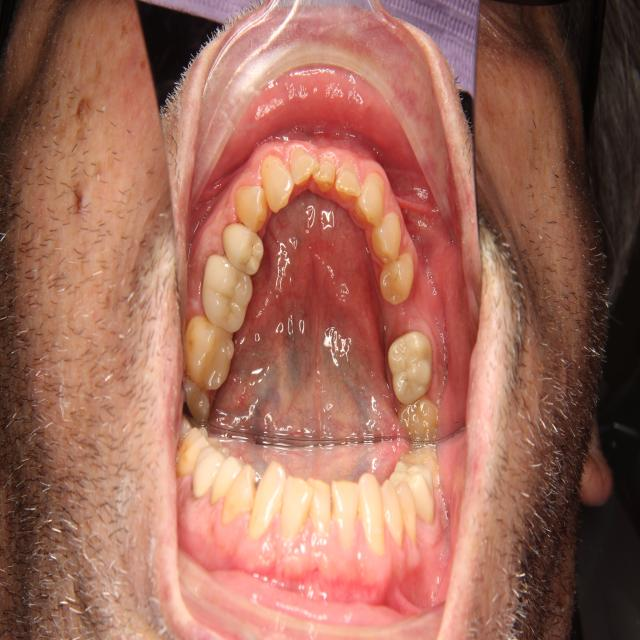tooth: (198, 250, 257, 333), (178, 309, 236, 393), (383, 328, 436, 407), (219, 216, 265, 277), (256, 150, 297, 216), (394, 390, 442, 444), (377, 250, 417, 308), (367, 210, 409, 264), (179, 373, 216, 433), (353, 167, 387, 229), (232, 182, 271, 235), (288, 142, 320, 187), (335, 156, 363, 201), (311, 152, 337, 200)
